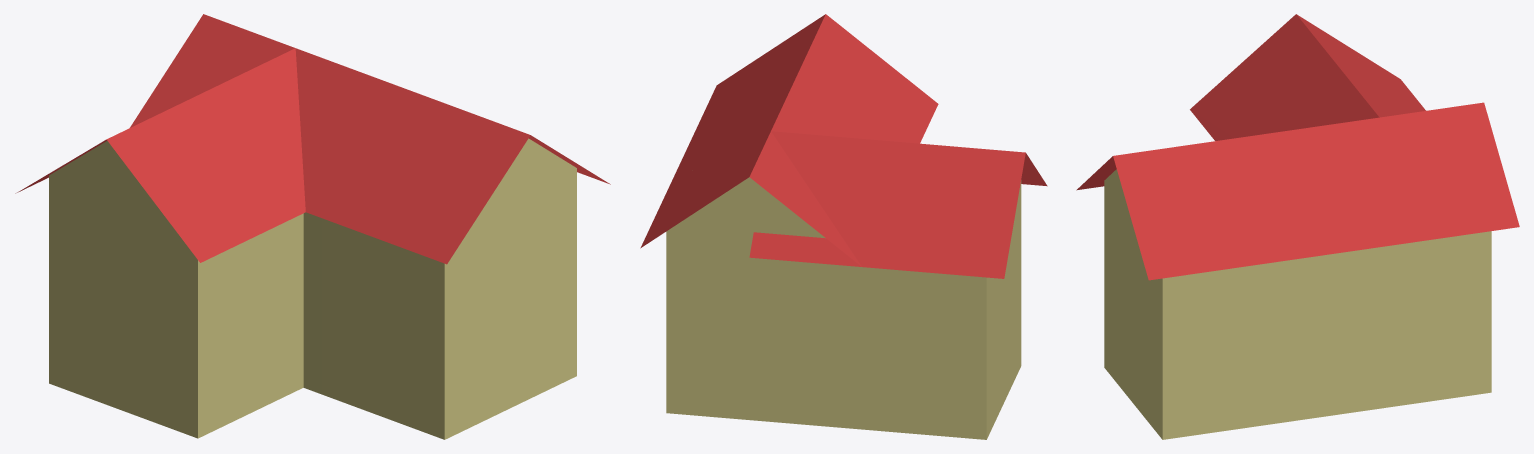
3 views of the same model, side by side, from view 1: azimuth 30°, elevation 25°; view 2: azimuth 150°, elevation 25°; view 3: azimuth 270°, elevation 25° (orthographic). The views are drawn at different scales.
Bounding box in the file's own units: 21.42 × 19.96 × 12.49.
